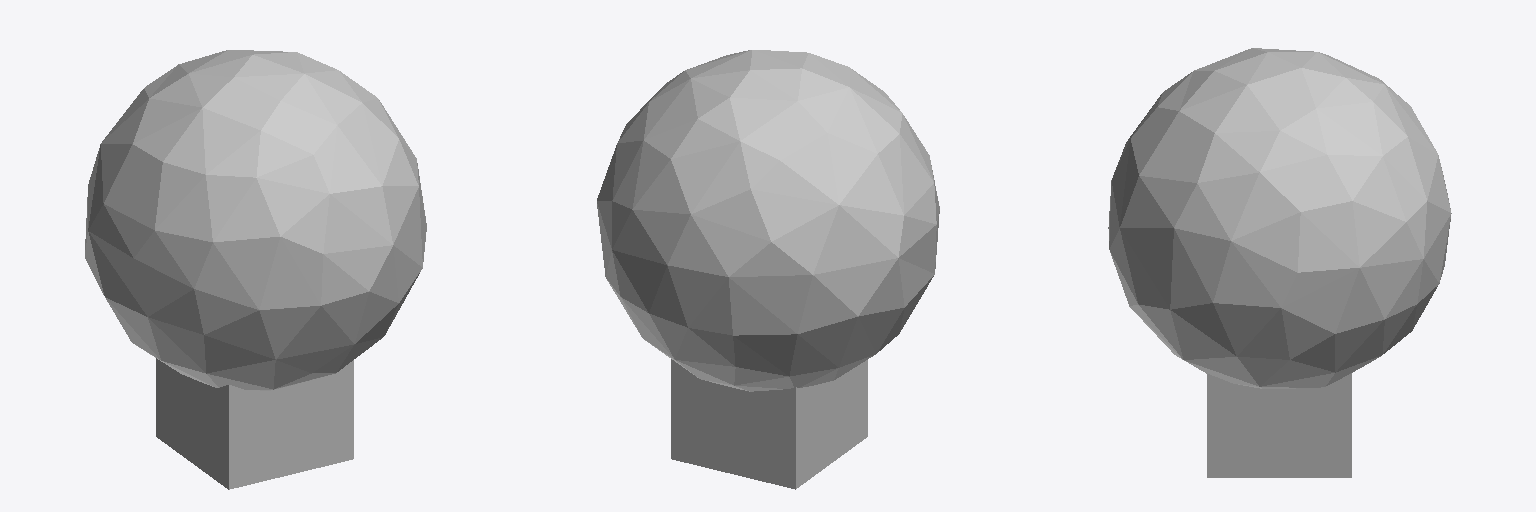
Rendered from PointLightProxy.obj.
The picture shows the model from 3 angles: view 1: azimuth 30°, elevation 25°; view 2: azimuth 150°, elevation 25°; view 3: azimuth 270°, elevation 25°; orthographic projection.
Visible parts, largest first — view 1: Cube_Cube.001; view 2: Cube_Cube.001; view 3: Cube_Cube.001.
Part boxes in pixels (x1,y1,x2,y2): Cube_Cube.001: (85,50,426,489); Cube_Cube.001: (597,50,939,489); Cube_Cube.001: (1108,48,1451,477).
Bounding box in the file's own units: 2 × 2.46 × 1.99.